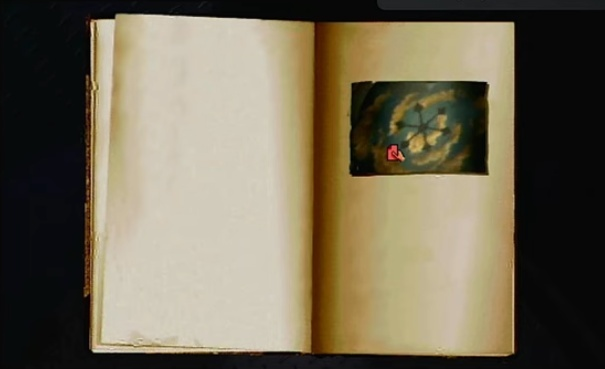Keep: (385, 142, 412, 163)
